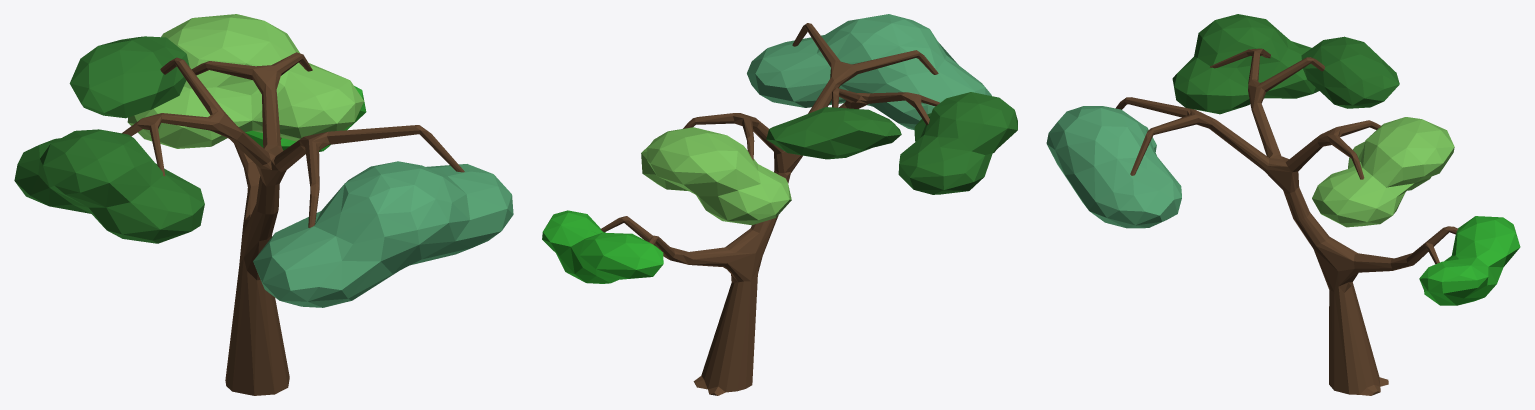
The model's file is tree1.fbx.
The picture shows the model from 3 angles, left to right: view 1: azimuth 30°, elevation 25°; view 2: azimuth 150°, elevation 25°; view 3: azimuth 270°, elevation 25°; orthographic projection. The views are drawn at different scales.
Visible parts, largest first — view 1: tree1_leaves, tree1_wood; view 2: tree1_leaves, tree1_wood; view 3: tree1_leaves, tree1_wood.
Boxes of the visible parts, x1,y1,x2,y2 form: tree1_leaves: [14, 14, 513, 307]; tree1_wood: [122, 52, 464, 395]; tree1_leaves: [542, 14, 1017, 283]; tree1_wood: [600, 23, 939, 395]; tree1_leaves: [1046, 14, 1520, 305]; tree1_wood: [1115, 48, 1458, 395].
Size of the model in its own units: 6.1 by 4.84 by 7.27.
